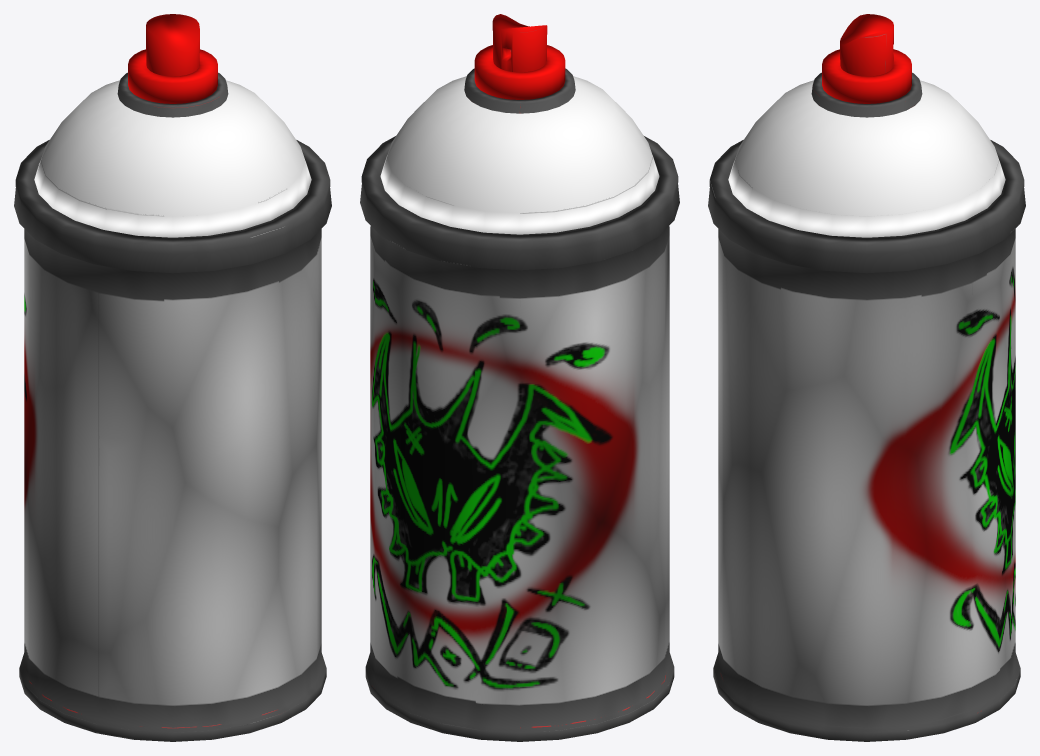
The model's file is WHITECAN.fbx.
3 renders of one model, left to right at view 1: azimuth 30°, elevation 25°; view 2: azimuth 150°, elevation 25°; view 3: azimuth 270°, elevation 25°, orthographic.
Visible parts, largest first — view 1: LATA BLANCA; view 2: LATA BLANCA; view 3: LATA BLANCA.
Part boxes in pixels (<box>): LATA BLANCA: <box>14,14,331,741</box>; LATA BLANCA: <box>360,14,679,741</box>; LATA BLANCA: <box>708,14,1025,741</box>.
Size of the model in its own units: 23.77 by 23.77 by 53.75.
1 material, 1 textured.
